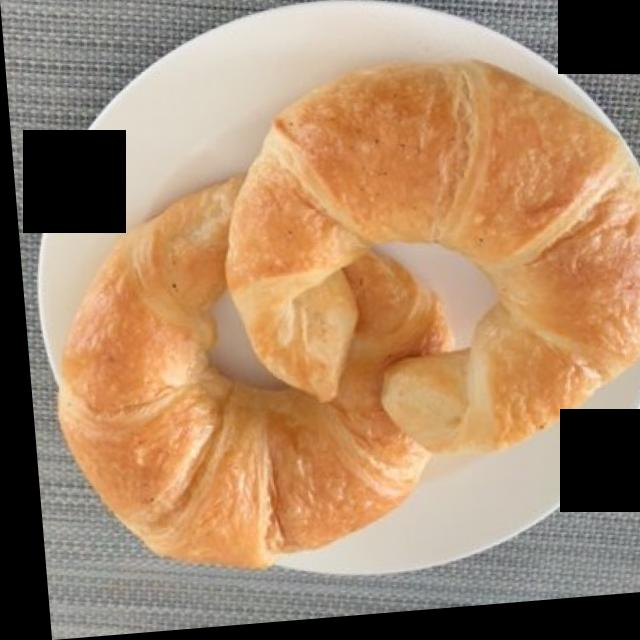croissant: (52, 74, 640, 569)
